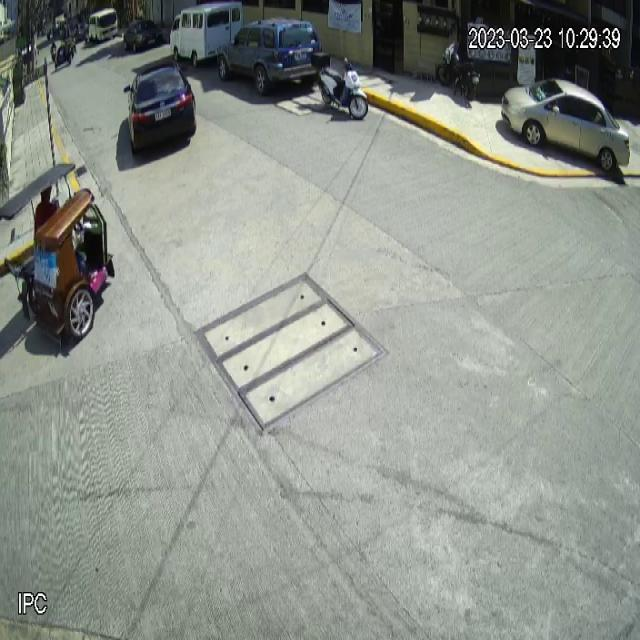Car: (501, 77, 631, 173), (216, 16, 323, 98)
Motorcycle: (311, 51, 368, 120)
Tricycle: (0, 161, 114, 341)
Van: (169, 0, 243, 68)
